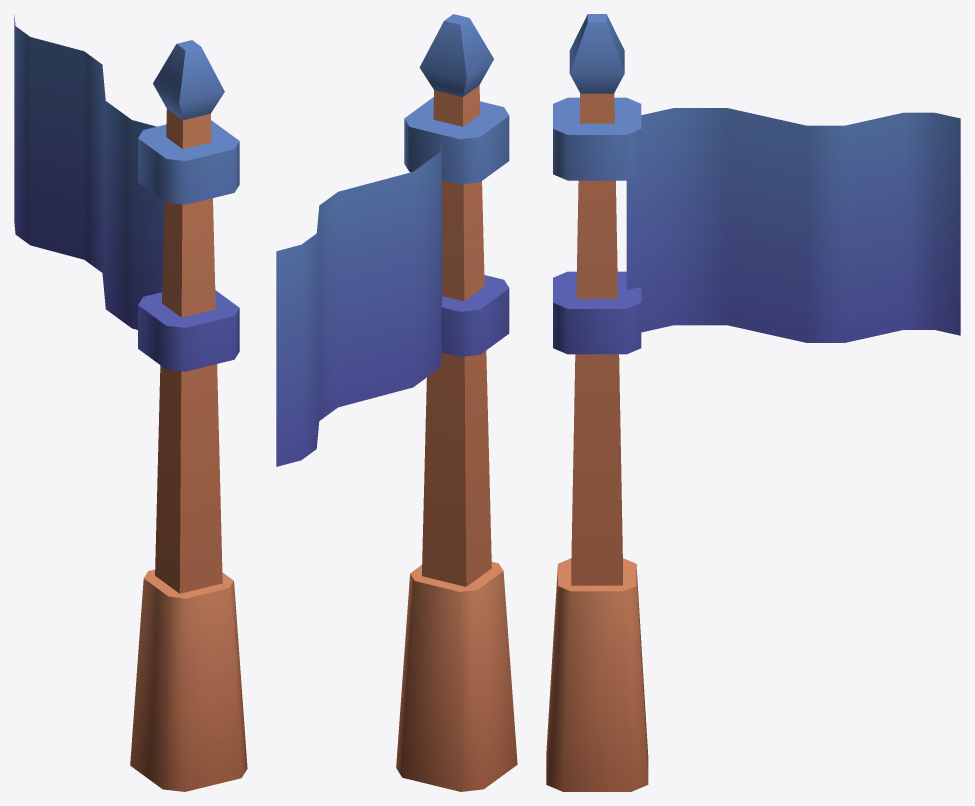
The model's file is kenney-castle-flag.glb.
3 renders of one model, left to right at view 1: azimuth 30°, elevation 25°; view 2: azimuth 150°, elevation 25°; view 3: azimuth 270°, elevation 25°, orthographic. The views are drawn at different scales.
Parts seen in each view (by area): view 1: flag; view 2: flag; view 3: flag.
Boxes of the visible parts, <box> form: flag: <box>14,15,247,791</box>; flag: <box>276,14,517,791</box>; flag: <box>546,14,960,791</box>.
Bounding box in the file's own units: 0.1064 × 0.8656 × 0.4323.
Materials: 1 (1 with a texture image).
